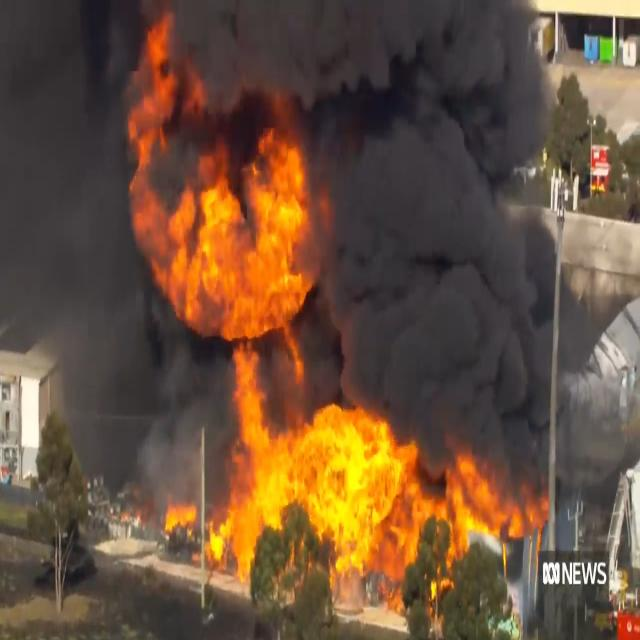fire: (154, 420, 550, 636), (136, 31, 325, 340), (216, 348, 283, 428), (588, 142, 612, 196)
